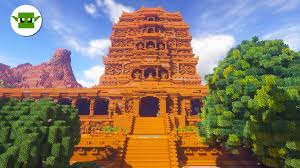Temple: (92, 6, 207, 131)
